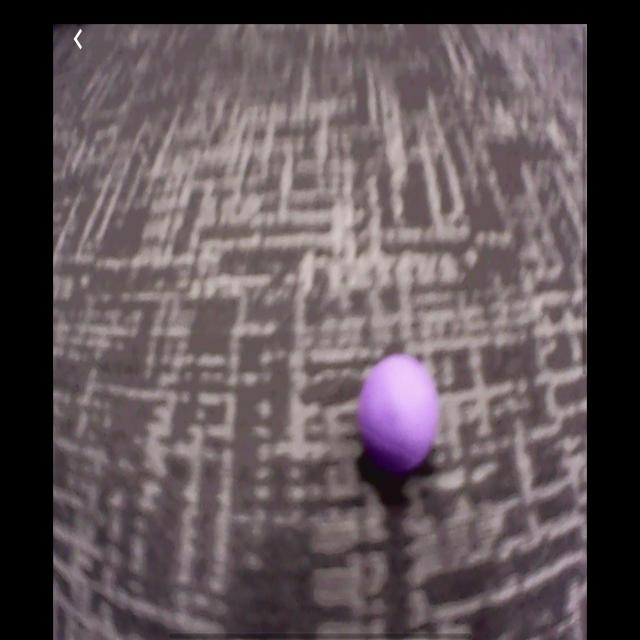ball: (361, 354, 439, 465)
